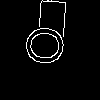O: (25, 25, 74, 67)
